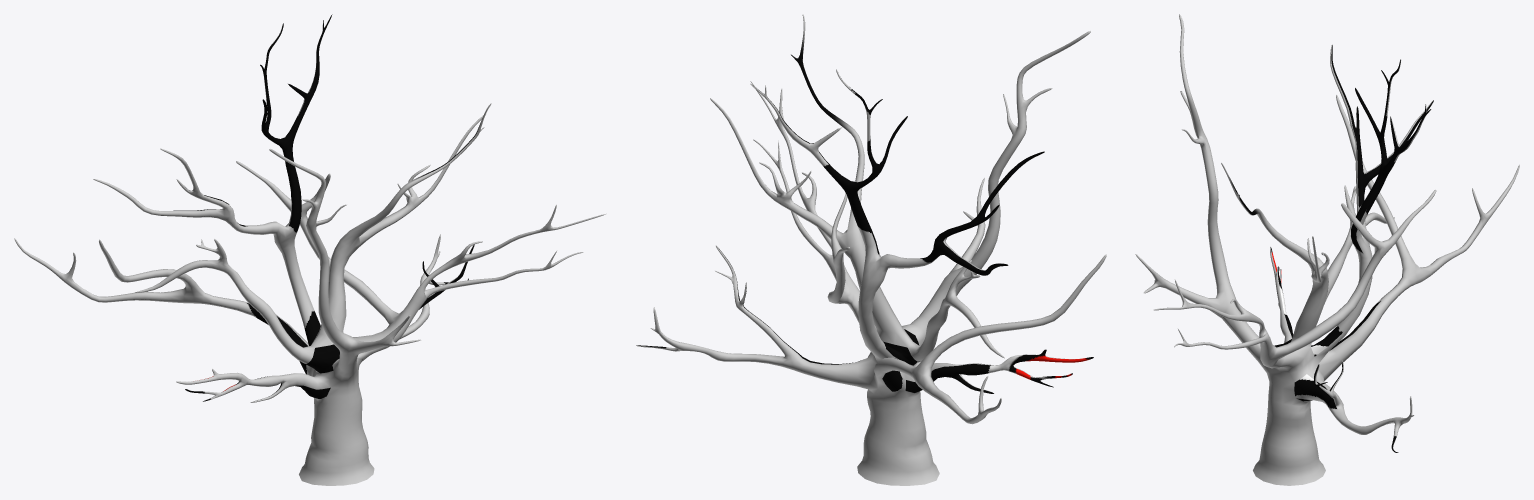
Rendered from tree2.obj.
The picture shows the model from 3 angles, left to right: view 1: azimuth 30°, elevation 25°; view 2: azimuth 150°, elevation 25°; view 3: azimuth 270°, elevation 25°; orthographic projection. The views are drawn at different scales.
Parts seen in each view (by area): view 1: Tree_lp; view 2: Tree_lp; view 3: Tree_lp.
Boxes of the visible parts, bbox=[...] form: Tree_lp: bbox=[14, 14, 606, 485]; Tree_lp: bbox=[636, 14, 1106, 485]; Tree_lp: bbox=[1135, 14, 1519, 485].
Bounding box in the file's own units: 0.8521 × 0.7969 × 0.6728.
